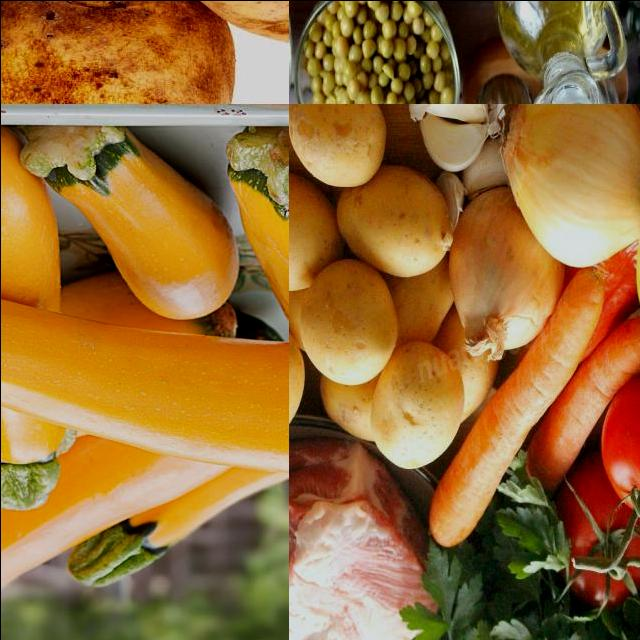carrot: (433, 423, 520, 540), (535, 410, 577, 500)
garlic: (410, 104, 492, 168)
onion: (520, 104, 640, 248)
potato: (1, 1, 227, 104), (344, 180, 446, 276), (305, 270, 390, 370), (373, 361, 457, 451), (148, 1, 289, 46), (295, 104, 382, 175), (289, 185, 334, 280), (289, 342, 307, 440)
tomato: (561, 480, 640, 599), (601, 388, 640, 532)
zucchini: (1, 293, 289, 504)
